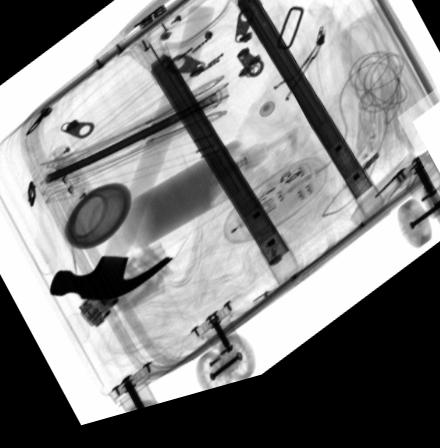Hammer: (49, 14, 215, 304)
